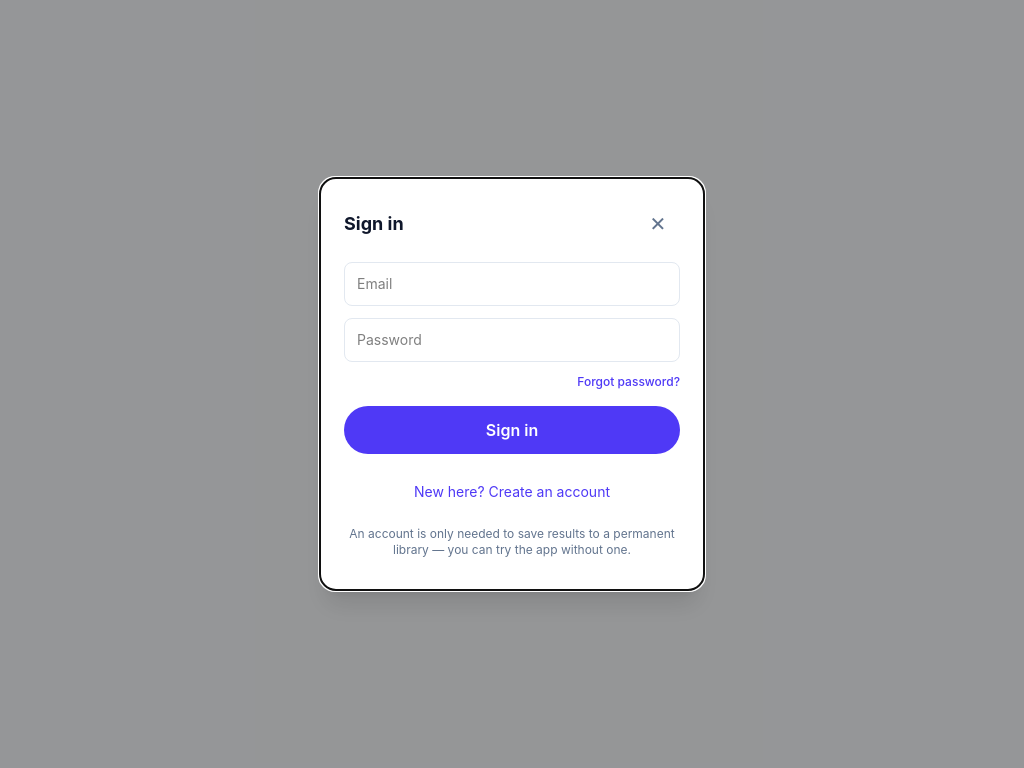
Test: AuthModal — forgot password › on failure (e.g. rate limited), shows the error and stays on the form
Step 1. Click the button "Forgot password?" → (629, 382), box [577,374,680,390]
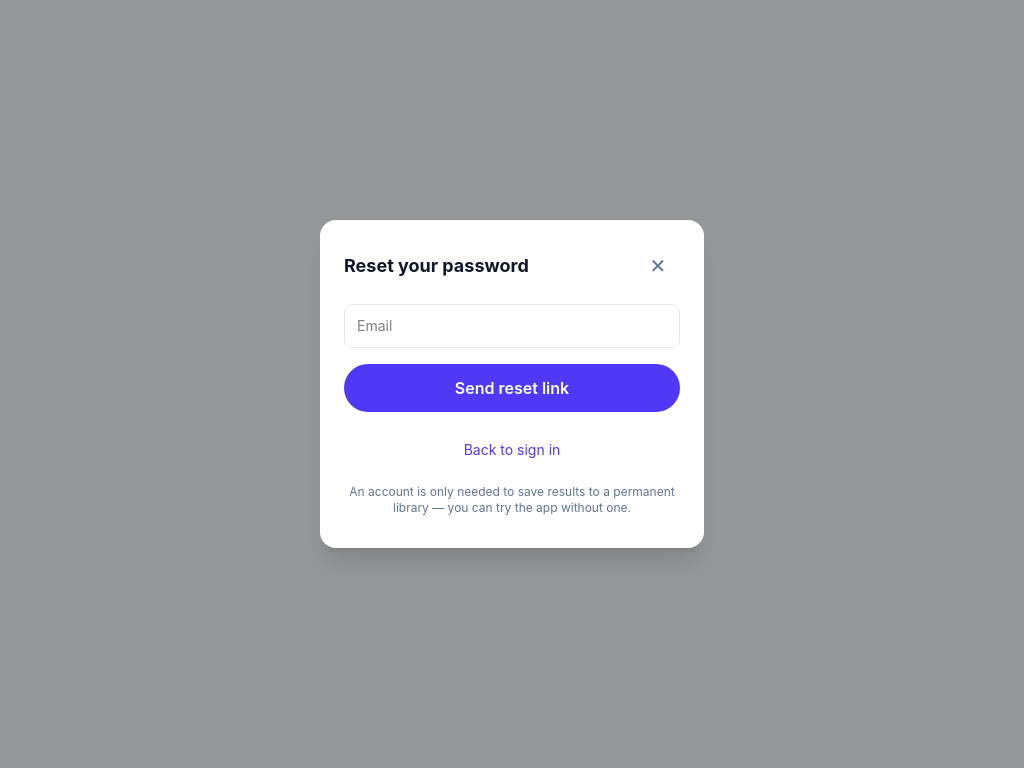
Step 2. Type "person@example.com" into the field with placeholder "Email" → (512, 326), box [344,304,680,348]
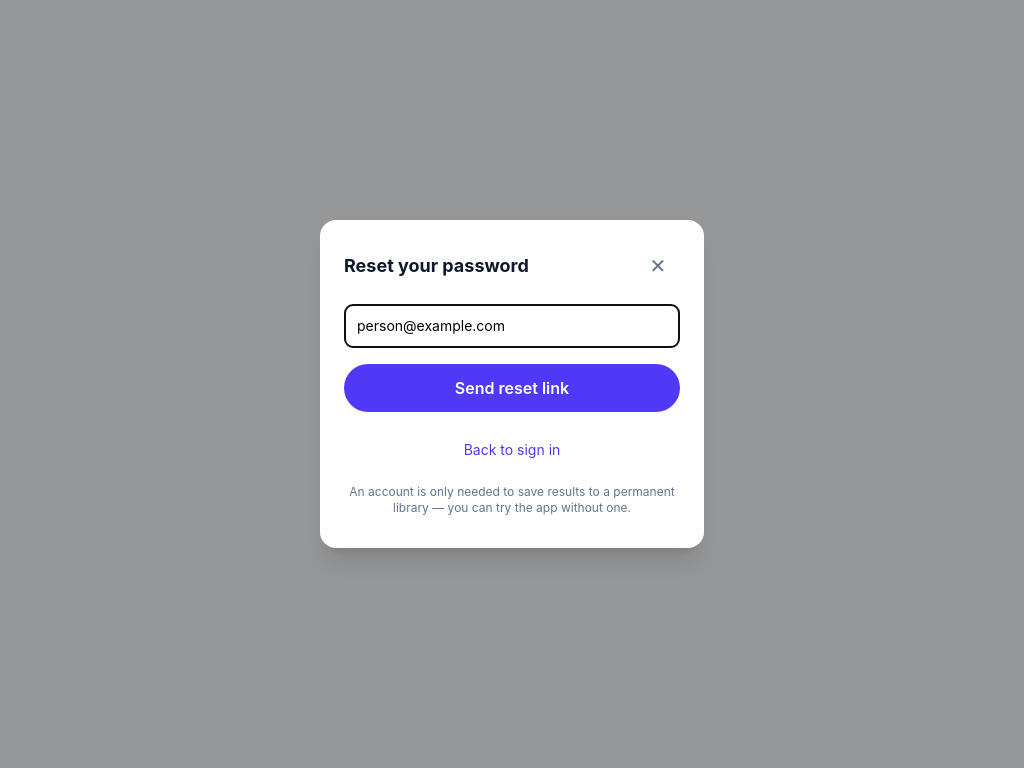
Step 3. Click the button "Send reset link" → (512, 388), box [344,364,680,412]
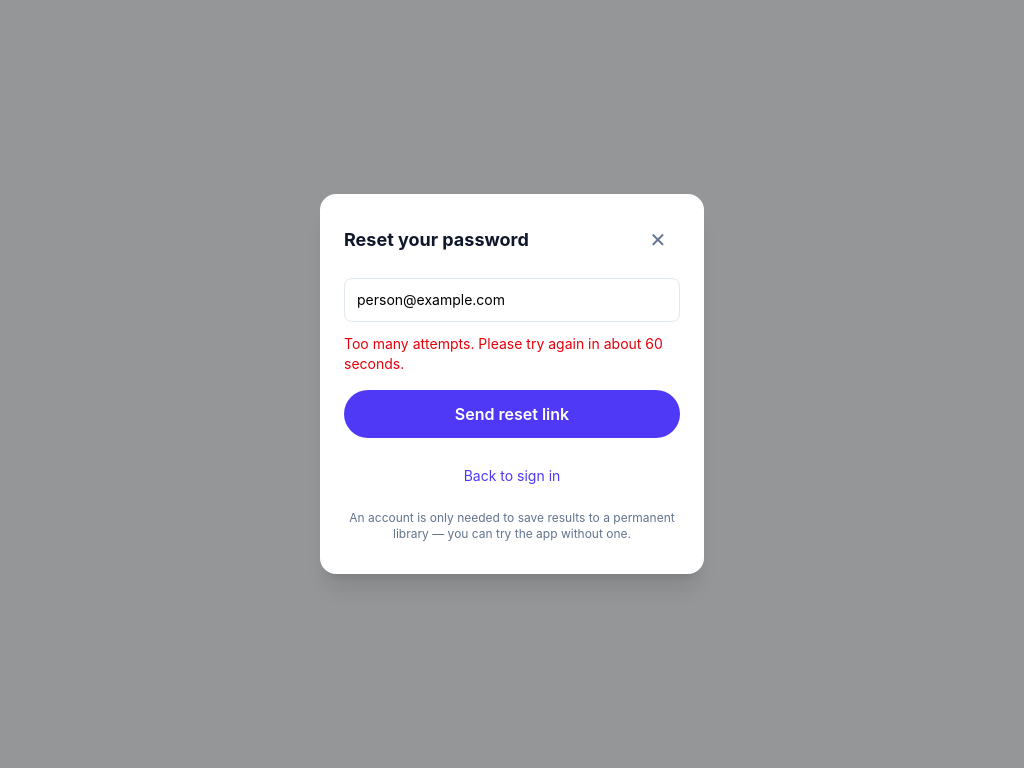
Check: the text "Too many attempts. Please try again in about 60 seconds." is shown, box [344,334,680,374]
